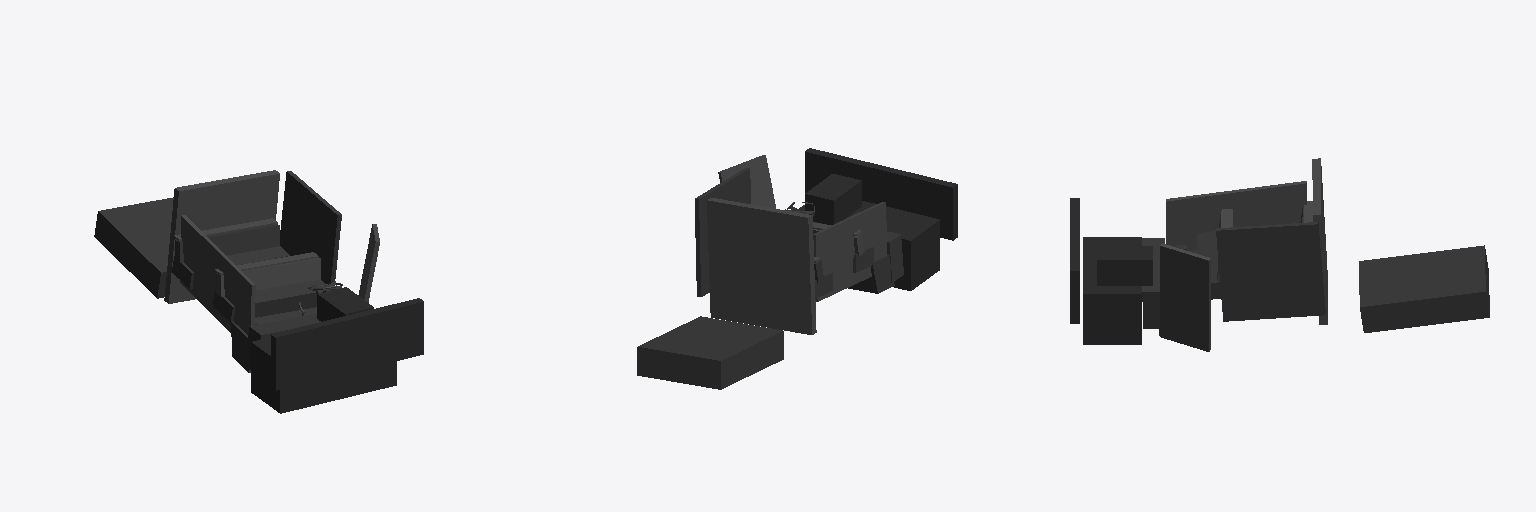
The model's file is truck_spider1wheel.obj.
3 views of the same model, side by side, from view 1: azimuth 30°, elevation 25°; view 2: azimuth 150°, elevation 25°; view 3: azimuth 270°, elevation 25° (orthographic).
Visible parts, largest first — view 1: Cube.000_Cube.039, Cube.009, Cube.002_Cube.005, Cube_Cube.001, Cube.063, Cube.114, Cube.059, Cube.000_Cube.001, Cube.065, Cube.012_Cube.040, Cube.058, Cube.003_Cube.010 (+3 smaller); view 2: Cube.009, Cube.002_Cube.005, Cube.000_Cube.039, Cube.114, Cube_Cube.001, Cube.063, Cube.012_Cube.040, Cube.036, Cube.003_Cube.010, Cube.001_Cube.001; view 3: Cube.063, Cube.002_Cube.005, Cube.114, Cube.036, Cube_Cube.001, Cube.012_Cube.040, Cube.000_Cube.039, Cube.001_Cube.001, Cube.009, Cube.059.
Part boxes in pixels (left/top/right/bottom): Cube.000_Cube.039: left=271, top=298, right=423, bottom=390; Cube.009: left=164, top=170, right=279, bottom=303; Cube.002_Cube.005: left=94, top=197, right=173, bottom=298; Cube_Cube.001: left=251, top=337, right=396, bottom=413; Cube.063: left=280, top=171, right=341, bottom=290; Cube.114: left=180, top=215, right=255, bottom=334; Cube.059: left=213, top=280, right=324, bottom=322; Cube.000_Cube.001: left=215, top=258, right=320, bottom=296; Cube.065: left=175, top=224, right=279, bottom=262; Cube.012_Cube.040: left=317, top=287, right=373, bottom=321; Cube.058: left=172, top=246, right=289, bottom=288; Cube.003_Cube.010: left=231, top=307, right=316, bottom=372; Cube.009: left=707, top=198, right=816, bottom=334; Cube.002_Cube.005: left=637, top=316, right=783, bottom=389; Cube.000_Cube.039: left=805, top=148, right=957, bottom=240; Cube.114: left=813, top=202, right=886, bottom=301; Cube_Cube.001: left=799, top=201, right=939, bottom=290; Cube.063: left=695, top=168, right=750, bottom=296; Cube.012_Cube.040: left=805, top=174, right=861, bottom=224; Cube.036: left=718, top=155, right=775, bottom=208; Cube.003_Cube.010: left=848, top=255, right=894, bottom=293; Cube.001_Cube.001: left=814, top=222, right=903, bottom=282; Cube.063: left=1216, top=222, right=1325, bottom=321; Cube.002_Cube.005: left=1359, top=245, right=1489, bottom=332; Cube.114: left=1166, top=181, right=1306, bottom=249; Cube.036: left=1160, top=243, right=1210, bottom=351; Cube_Cube.001: left=1083, top=237, right=1141, bottom=344; Cube.012_Cube.040: left=1097, top=246, right=1152, bottom=285; Cube.000_Cube.039: left=1070, top=198, right=1079, bottom=323; Cube.001_Cube.001: left=1142, top=238, right=1164, bottom=328; Cube.009: left=1312, top=158, right=1327, bottom=324; Cube.059: left=1197, top=231, right=1220, bottom=299.
Size of the model in its own units: 14.29 by 10.87 by 30.43.